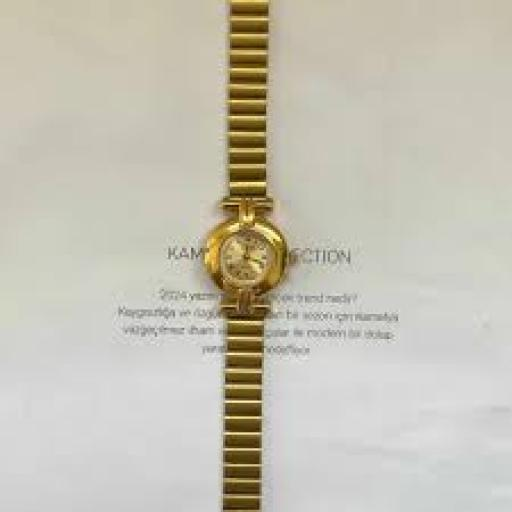KolSaati: (186, 18, 306, 512)
